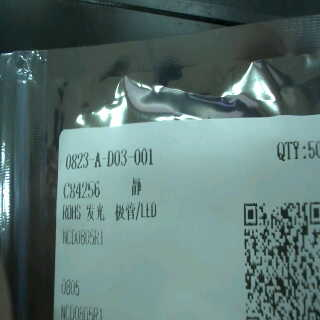LED: (85, 199, 155, 226)
